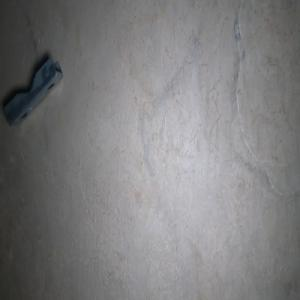ClampPart: (1, 57, 63, 129)
